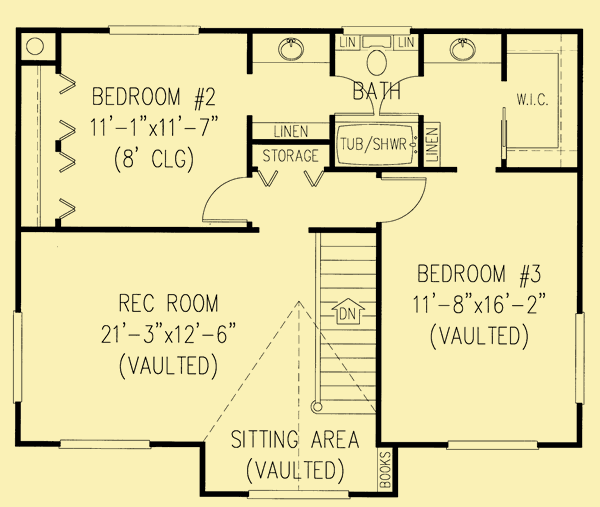door: (197, 170, 252, 224), (377, 173, 432, 225), (325, 71, 376, 120), (375, 71, 427, 118)
large sink: (358, 32, 392, 79)
small sink: (419, 26, 503, 68), (250, 29, 333, 67)
stairs: (312, 227, 381, 418)
tub: (331, 118, 421, 171)
windows: (570, 308, 590, 411), (441, 436, 543, 456), (235, 486, 359, 502), (57, 434, 158, 453), (104, 22, 205, 40), (9, 308, 25, 410)
